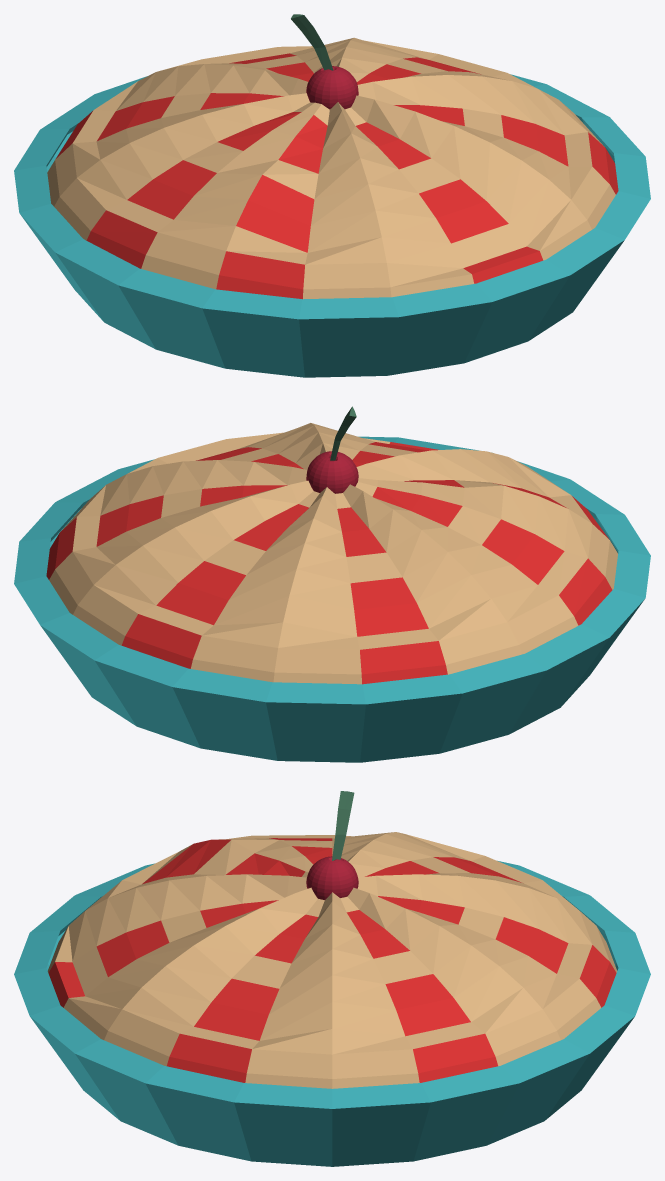
The model's file is Pie.fbx.
3 views of the same model, one above another, from view 1: azimuth 30°, elevation 25°; view 2: azimuth 150°, elevation 25°; view 3: azimuth 270°, elevation 25° (orthographic).
Visible parts, largest first — view 1: pSphere3; view 2: pSphere3; view 3: pSphere3.
Part boxes in pixels (x1,y1,x2,y2): pSphere3: [14, 14, 650, 377]; pSphere3: [14, 406, 650, 762]; pSphere3: [14, 791, 650, 1166].
Bounding box in the file's own units: 2.43 × 1.07 × 2.43.
